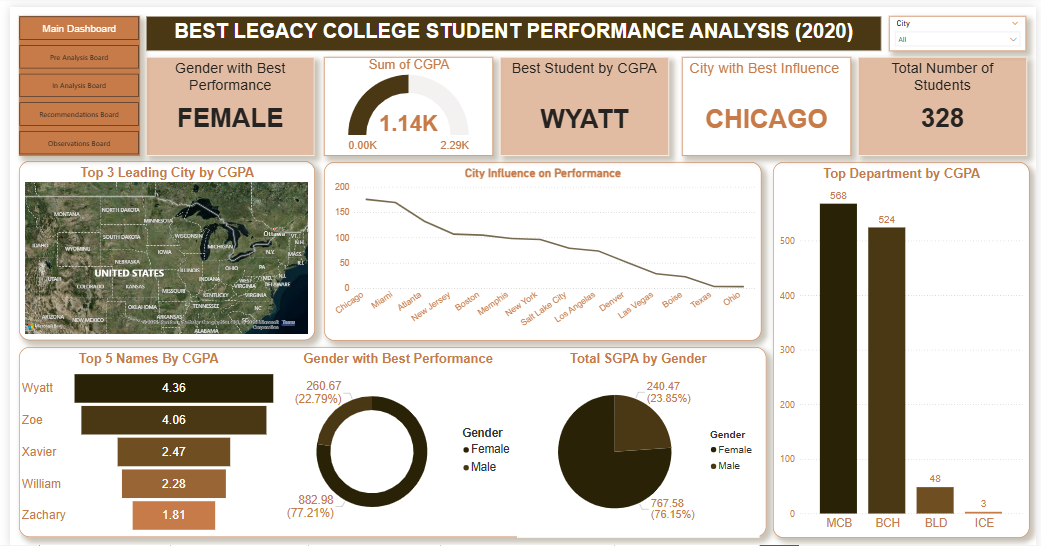

The page's visual inventory and layout, read from the dashboard file:
{"tool":"powerbi","page":{"name":"Main Dashboard","canvas":[1900,1000],"ordinal":0},"visuals":[{"type":"textbox","box":[252.4,15.9,1361.9,65.1],"z":0},{"type":"funnel","title":"Top 5 Names By CGPA ","fields":{"Category":["Cleaned Data.Names "],"Y":["Cleaned Data.CGPA"]},"box":[17.5,636.5,481,346],"z":1000},{"type":"donutChart","title":"Gender with Best Performance ","fields":{"Category":["Cleaned Data.Gender"],"Y":["Cleaned Data.CGPA"]},"box":[498.4,636.5,441.3,346],"z":2000},{"type":"textbox","box":[16.7,629.6,1372.2,353.7],"z":3000},{"type":"filledMap","title":"Top 3 Leading City by CGPA","fields":{"Category":["Cleaned Data.City"]},"box":[17.5,285.7,547.6,331.7],"z":4000},{"type":"columnChart","title":"Top Department by CGPA","fields":{"Category":["Cleaned Data.Department"],"Y":["Cleaned Data.CGPA"]},"box":[1401.5,286.5,487.2,697.1],"z":5000},{"type":"pieChart","title":"Total SGPA by Gender","fields":{"Category":["Cleaned Data.Gender"],"Y":["Cleaned Data.SGPA"]},"box":[938.9,637,450,346.3],"z":6000},{"type":"pageNavigator","box":[17.5,15.9,223.8,258.7],"z":7000},{"type":"lineChart","title":"City Influence on Performance","fields":{"Category":["Cleaned Data.City"],"Y":["Cleaned Data.CGPA"]},"box":[582.1,286.5,806.6,330.3],"z":8000},{"type":"slicer","fields":{"Values":["Cleaned Data.City"]},"box":[1628.6,15.9,254,65.1],"z":9000},{"type":"textbox","box":[252.4,92.1,312,182.5],"z":10000},{"type":"gauge","fields":{"Y":["Cleaned Data.CGPA"]},"box":[581,92.1,312.7,182.5],"z":11000},{"type":"textbox","box":[907.9,92.1,312.7,182.5],"z":12000},{"type":"textbox","box":[1244.4,92.1,312.7,182.5],"z":13000},{"type":"textbox","box":[1569.8,92.1,312.7,182.5],"z":14000}]}

Visuals, with their boxes on the page's 1900x1000 design canvas (x1, y1, x2, y2). These are canvas units, not pixel positions in the 1041x546 screenshot, which may show the page scaled, cropped or inside an application window:
textbox: left=252, top=16, right=1614, bottom=81
"Top 5 Names By CGPA " funnel: left=18, top=636, right=498, bottom=982
"Gender with Best Performance " donutChart: left=498, top=636, right=940, bottom=982
textbox: left=17, top=630, right=1389, bottom=983
"Top 3 Leading City by CGPA" filledMap: left=18, top=286, right=565, bottom=617
"Top Department by CGPA" columnChart: left=1402, top=286, right=1889, bottom=984
"Total SGPA by Gender" pieChart: left=939, top=637, right=1389, bottom=983
pageNavigator: left=18, top=16, right=241, bottom=275
"City Influence on Performance" lineChart: left=582, top=286, right=1389, bottom=617
slicer - Cleaned Data.City: left=1629, top=16, right=1883, bottom=81
textbox: left=252, top=92, right=564, bottom=275
gauge - Cleaned Data.CGPA: left=581, top=92, right=894, bottom=275
textbox: left=908, top=92, right=1221, bottom=275
textbox: left=1244, top=92, right=1557, bottom=275
textbox: left=1570, top=92, right=1882, bottom=275
